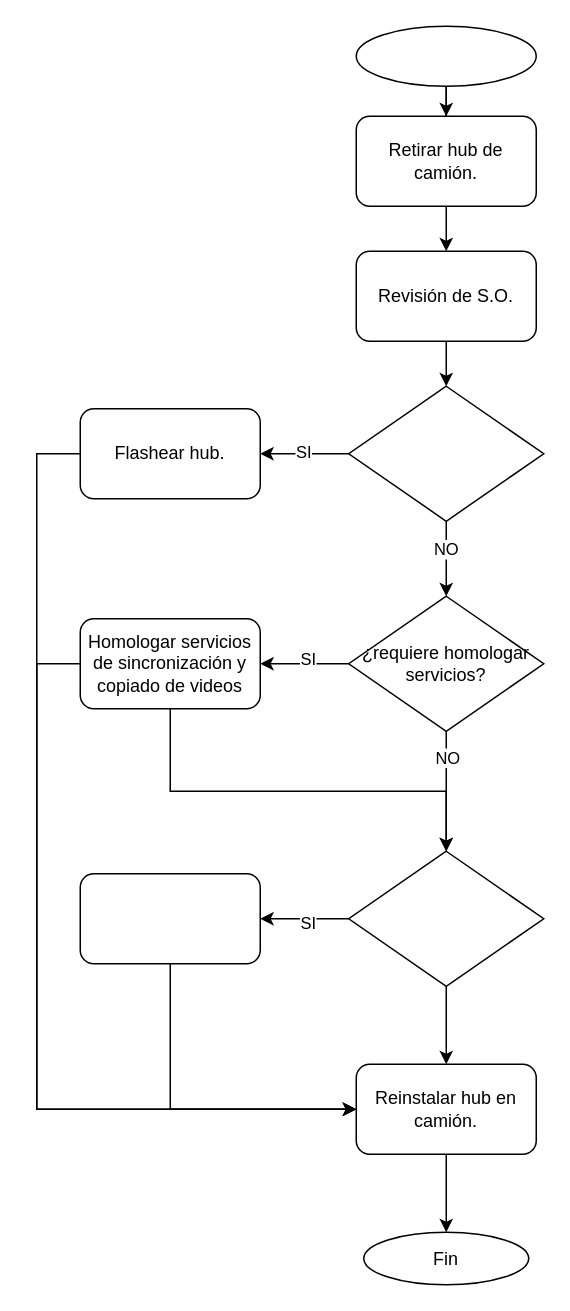
Image size: 570x1311. Some labels were removed from this diagram. Here are the shapes that lost their labels. From the top down, the centre of each, then its label:
pixel 445 55: Inicio
pixel 445 453: ¿requiere actualizar S.O.?
pixel 169 918: Instalar Athena 2.0
pixel 445 918: ¿requiere instalar Athena 2.0?
